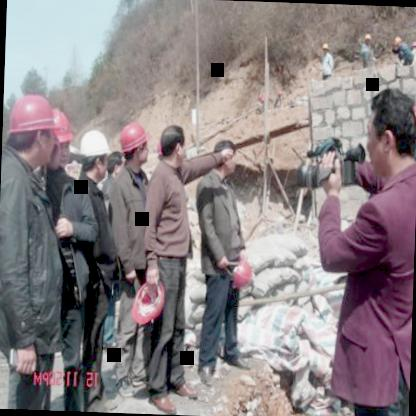head: (362, 93, 416, 174), (156, 123, 190, 175), (212, 137, 239, 176)
helmet: (8, 89, 60, 170), (76, 126, 112, 183), (45, 107, 74, 169), (115, 119, 148, 170), (408, 101, 416, 150), (320, 38, 332, 56), (362, 30, 372, 47), (394, 34, 404, 50)
